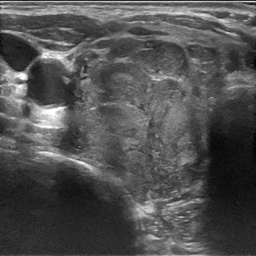mass: (66, 43, 203, 208)
